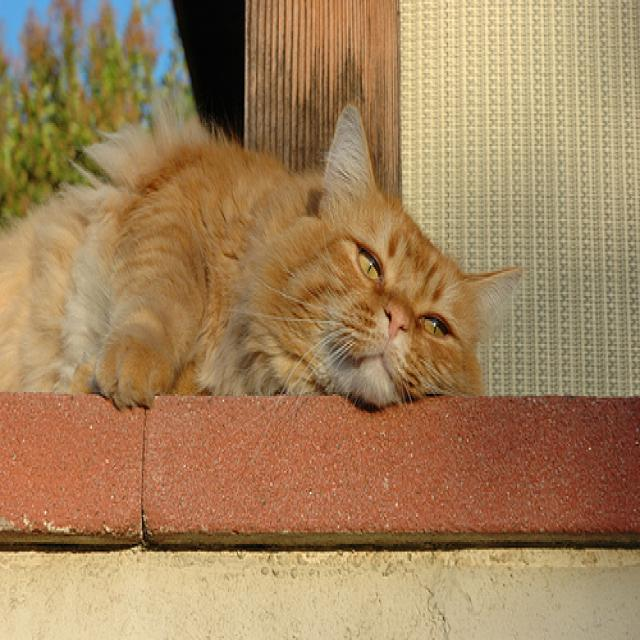cat: (1, 97, 523, 410)
